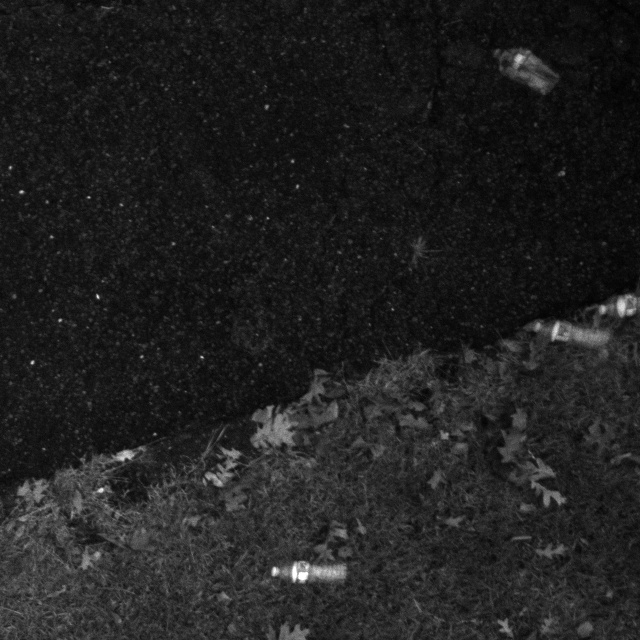bottle: (485, 42, 573, 97), (257, 552, 357, 594), (527, 313, 618, 352)
